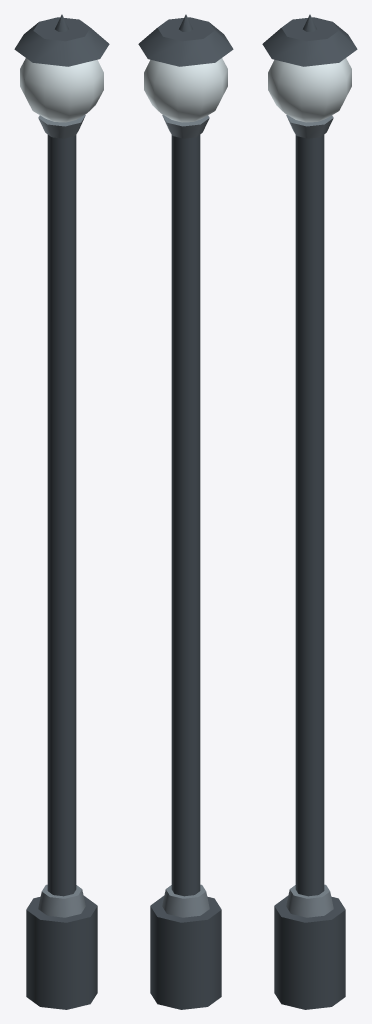
The model's file is SM_StreetLamp.obj.
3 views of the same model, side by side, from view 1: azimuth 30°, elevation 25°; view 2: azimuth 150°, elevation 25°; view 3: azimuth 330°, elevation 25° (orthographic).
Visible parts, largest first — view 1: StreetLamp; view 2: StreetLamp; view 3: StreetLamp.
Boxes of the visible parts, bbox=[...] form: StreetLamp: bbox=[14, 14, 109, 1009]; StreetLamp: bbox=[138, 14, 233, 1009]; StreetLamp: bbox=[262, 14, 357, 1009].
Size of the model in its own units: 0.3696 by 4.5 by 0.3696.
